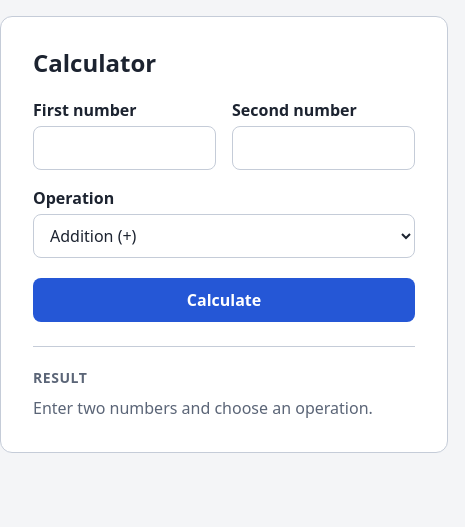
Test: Calculator › sends the entered values and shows the result with its expression
Step 1. Type "10" into the field labelled "First number" → (124, 148), box [33,126,216,170]
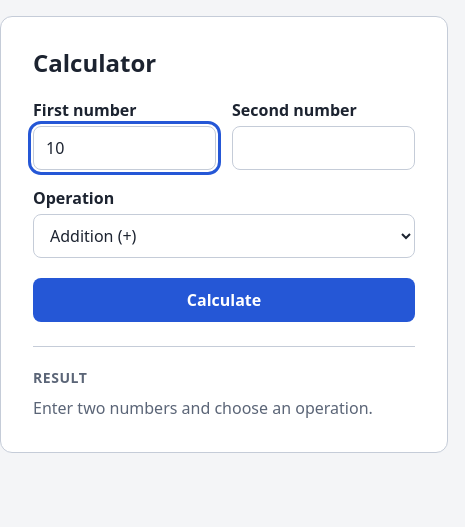
Step 2. Type "5" into the field labelled "Second number" → (324, 148), box [232,126,415,170]
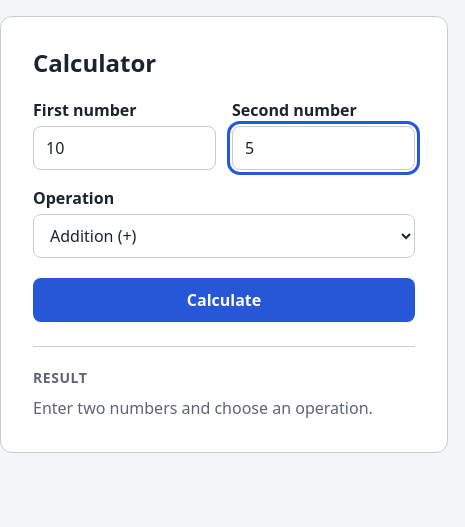
Step 3. Click the button "Calculate" → (224, 300), box [33,278,415,322]
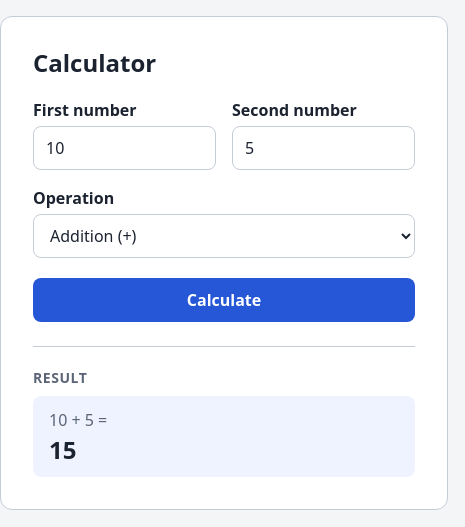
Check: the message reads "10 + 5 = 15", box [33,396,415,477]
